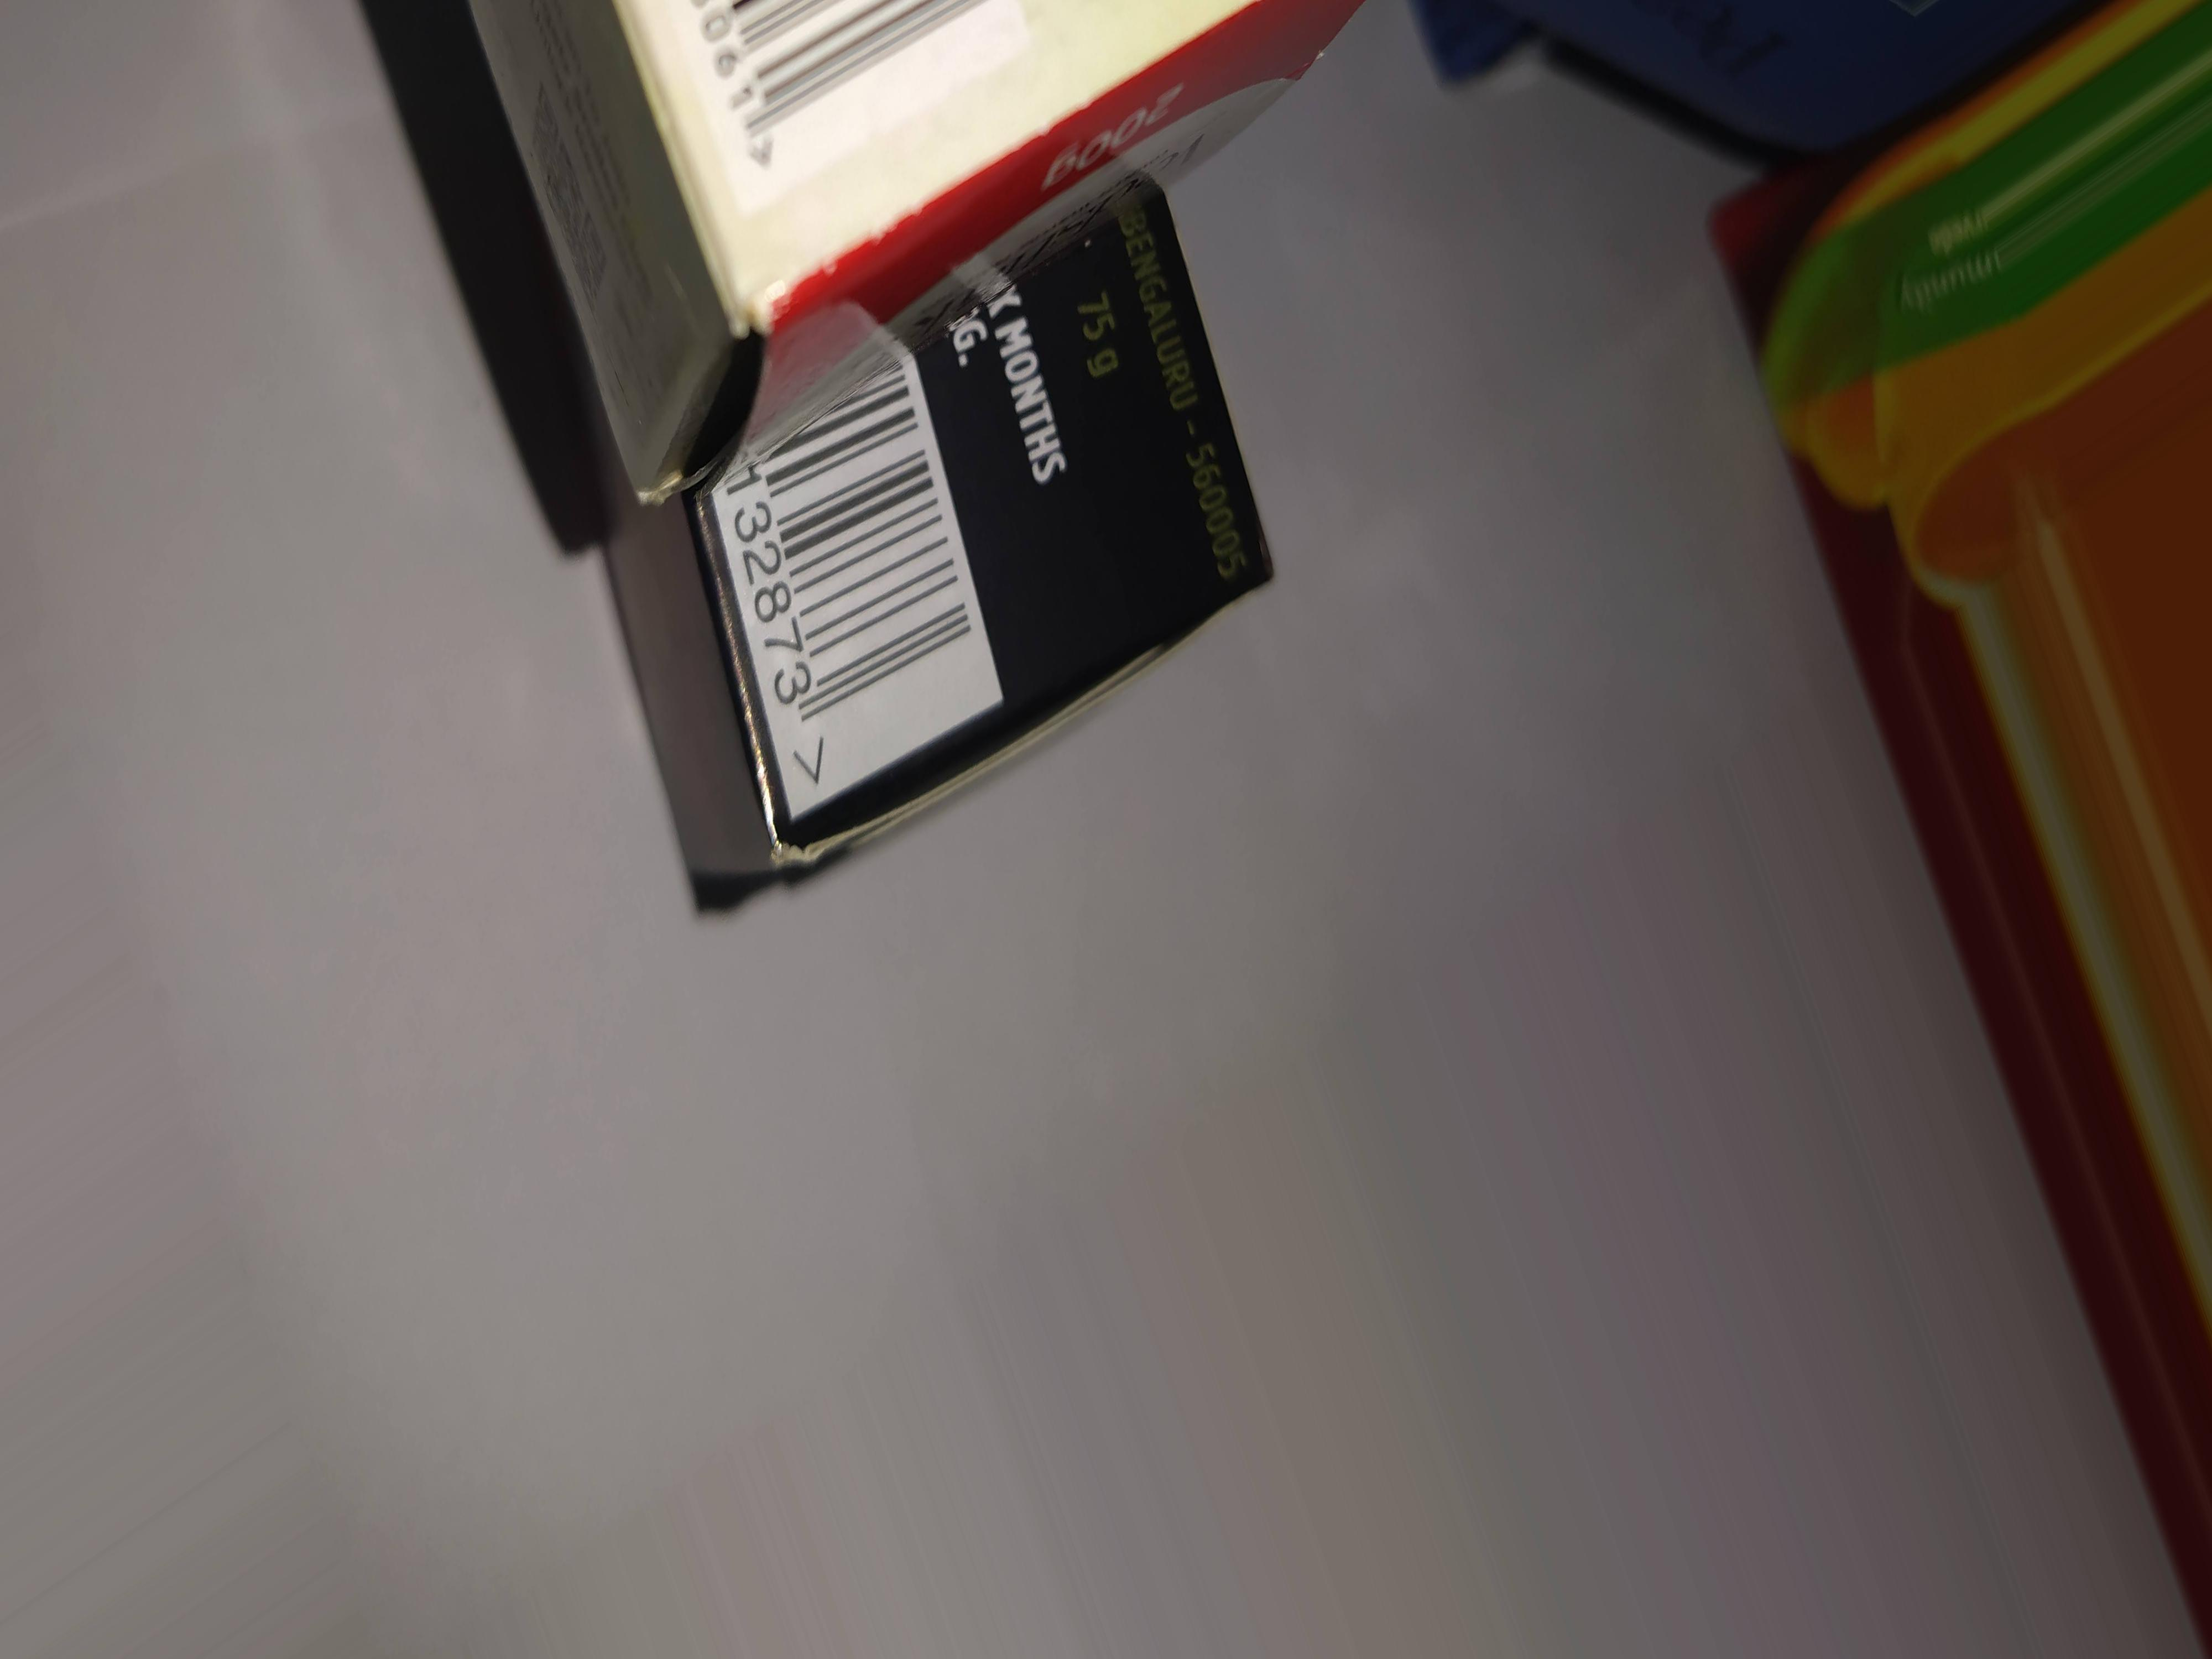Bar_code: (695, 401, 1062, 819)
